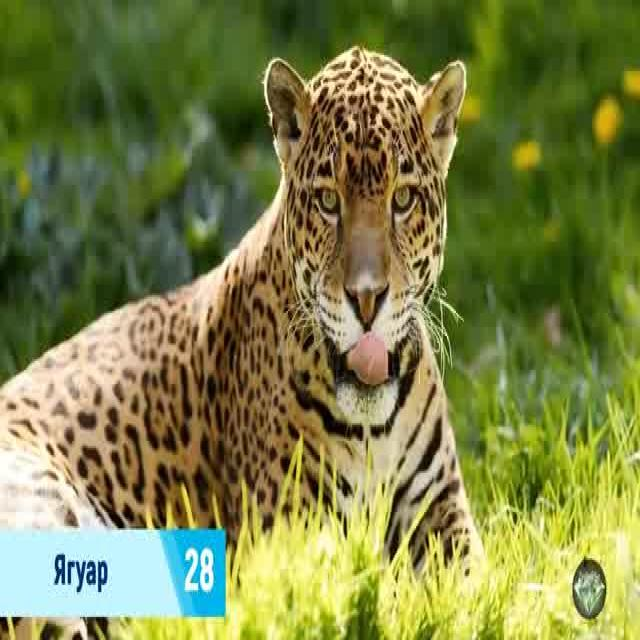Jaguar: (0, 43, 484, 574)
